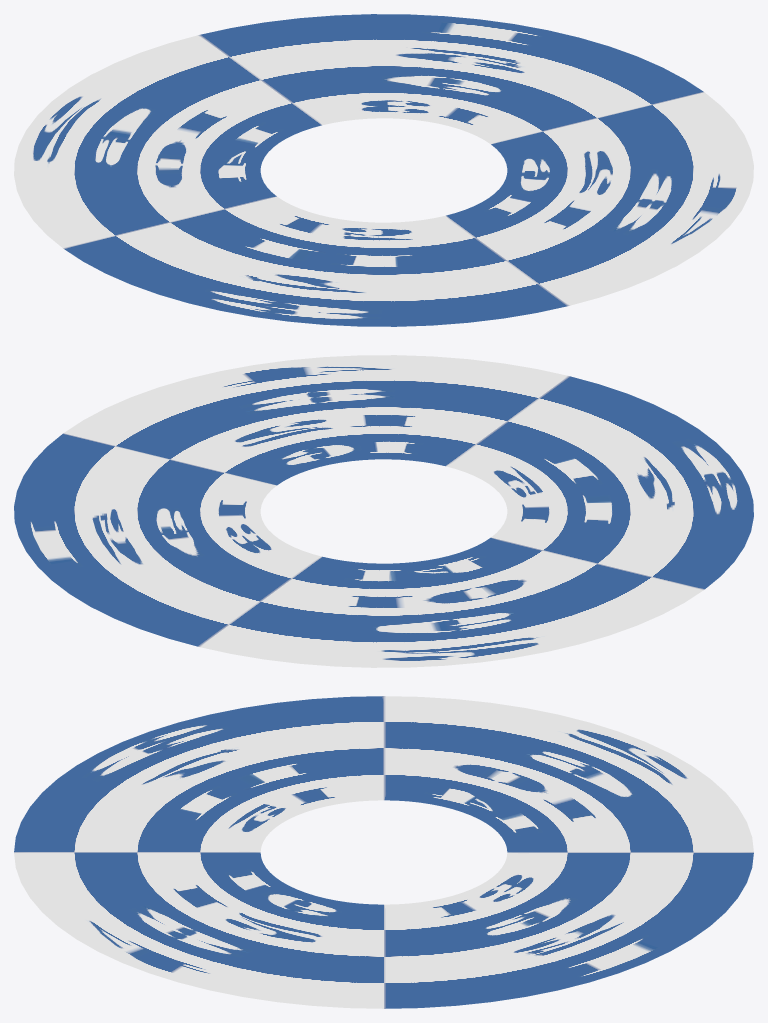
Rendered from Hi_Spl_Hekira_01.fbx.
3 views of the same model, one above another, from view 1: azimuth 30°, elevation 25°; view 2: azimuth 150°, elevation 25°; view 3: azimuth 270°, elevation 25° (orthographic).
Parts seen in each view (by area): view 1: SM_d_e_P0001_V00_C00_SplHkr_c050_Hekira_01; view 2: SM_d_e_P0001_V00_C00_SplHkr_c050_Hekira_01; view 3: SM_d_e_P0001_V00_C00_SplHkr_c050_Hekira_01.
Boxes of the visible parts, x1,y1,x2,y2 form: SM_d_e_P0001_V00_C00_SplHkr_c050_Hekira_01: (14, 14, 753, 326); SM_d_e_P0001_V00_C00_SplHkr_c050_Hekira_01: (14, 355, 753, 667); SM_d_e_P0001_V00_C00_SplHkr_c050_Hekira_01: (14, 696, 753, 1008).
Size of the model in its own units: 300 by 3.67e-14 by 300.
1 material, 1 textured.
